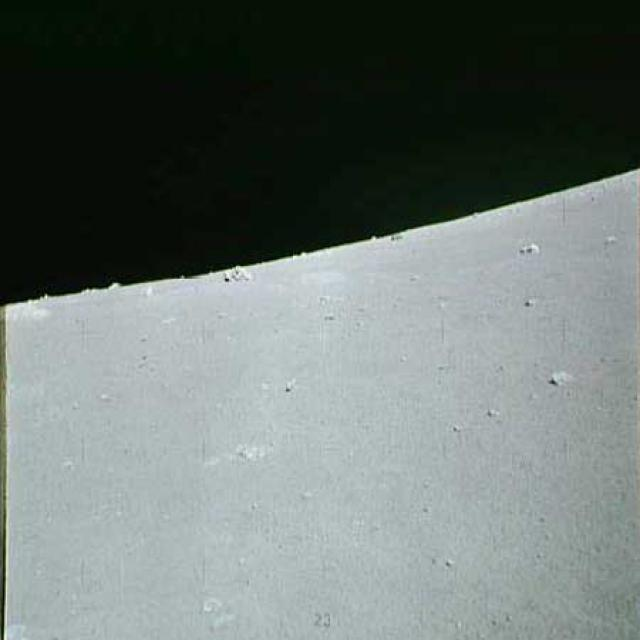rock: (216, 262, 258, 286), (546, 361, 576, 392), (512, 240, 544, 257)
